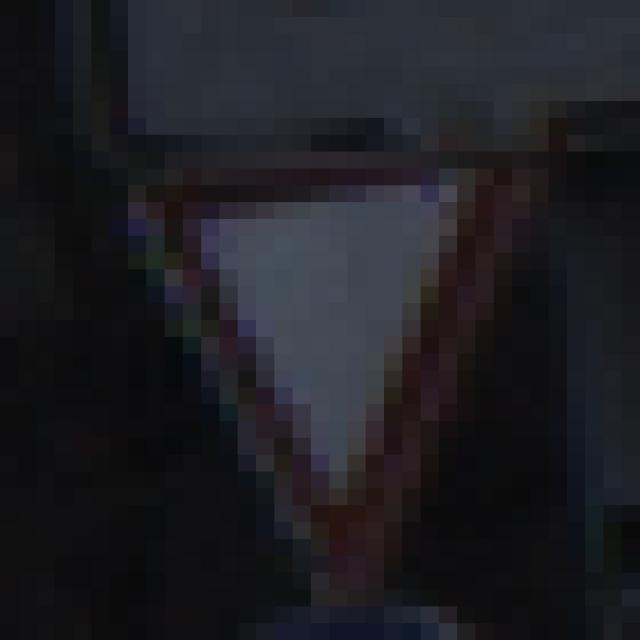Give Way: (93, 102, 550, 557)
